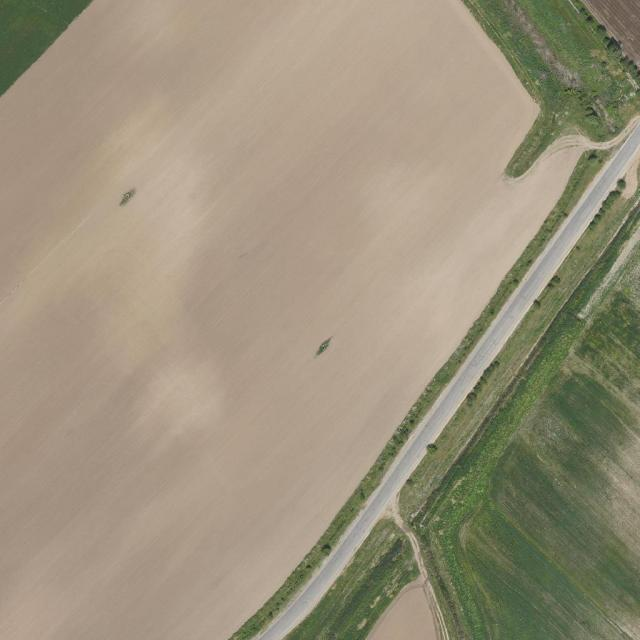greenland: (230, 140, 617, 640), (116, 185, 138, 208), (312, 337, 334, 357)
